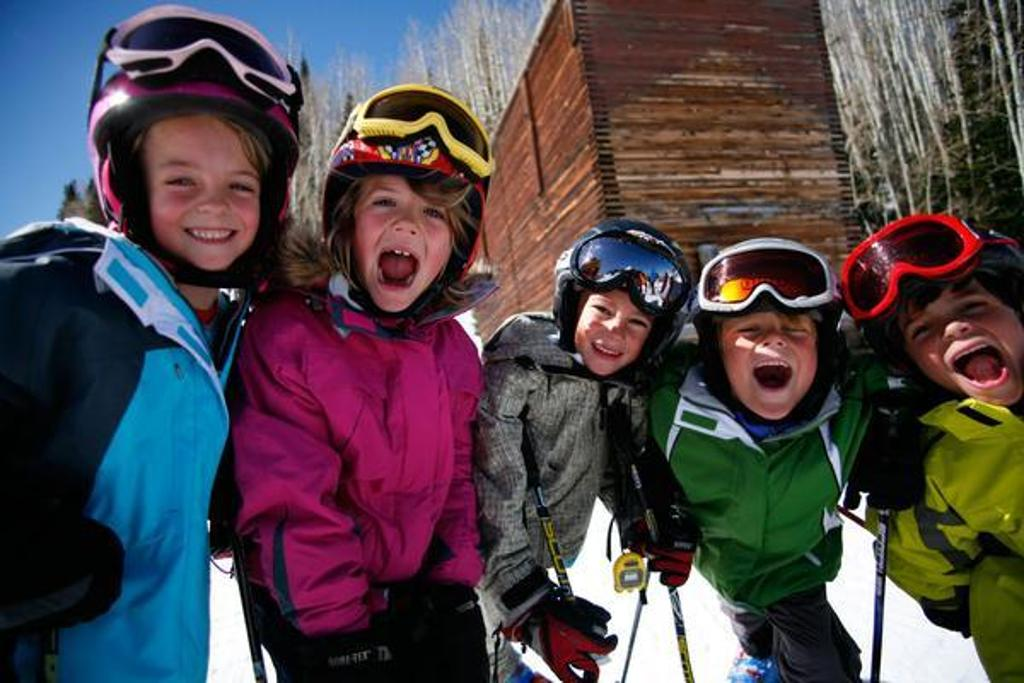face: (142, 114, 260, 270), (902, 278, 1022, 406), (352, 166, 452, 314), (720, 308, 816, 420), (572, 284, 654, 376)
